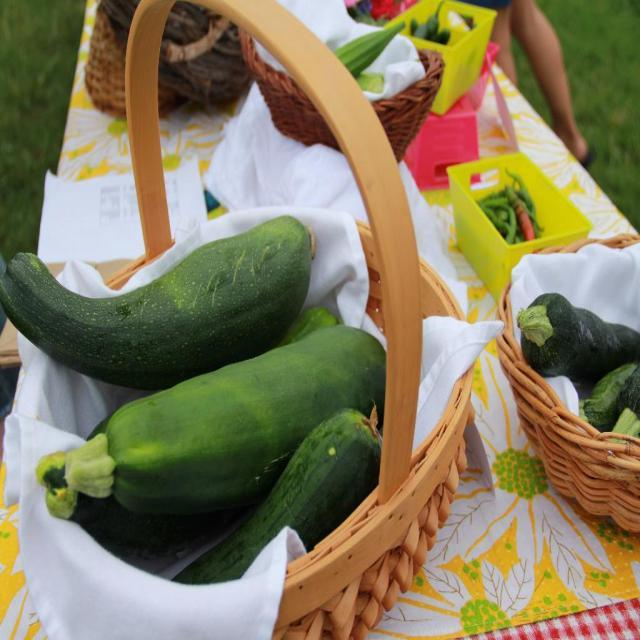Zucchini: (40, 323, 388, 527), (6, 213, 328, 397), (176, 406, 386, 587), (512, 288, 640, 400), (583, 358, 639, 433), (602, 373, 640, 448)
